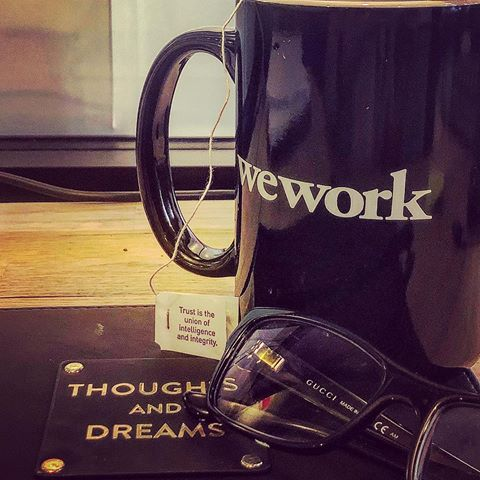wework: (237, 149, 435, 223)
